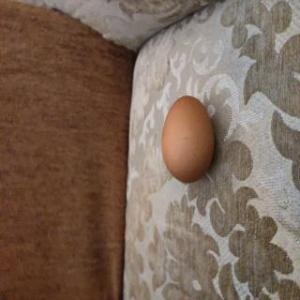egg: (157, 96, 217, 186)
